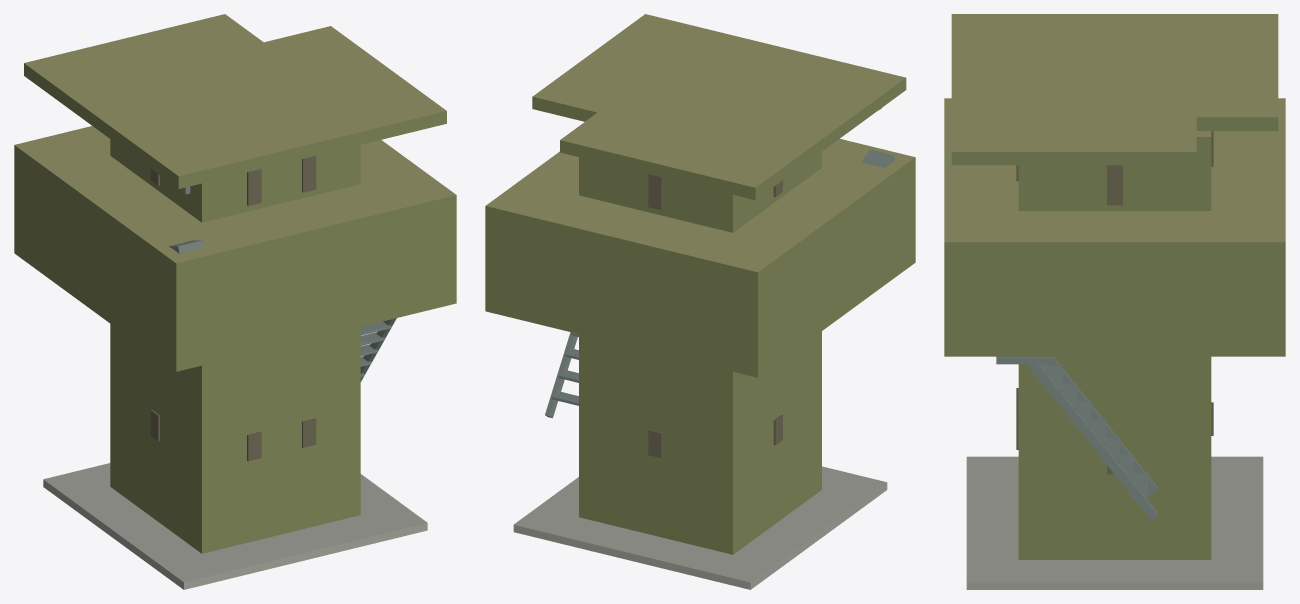
File: SM_TorretaVigia_v3_LOD0.fbx
3 renders of one model, left to right at view 1: azimuth 30°, elevation 25°; view 2: azimuth 150°, elevation 25°; view 3: azimuth 270°, elevation 25°, orthographic. The views are drawn at different scales.
Parts seen in each view (by area): view 1: SM_torreta_vigia_v3_LOD0; view 2: SM_torreta_vigia_v3_LOD0; view 3: SM_torreta_vigia_v3_LOD0.
Part boxes in pixels (left/top/right/bottom): SM_torreta_vigia_v3_LOD0: left=14, top=14, right=456, bottom=589; SM_torreta_vigia_v3_LOD0: left=485, top=14, right=915, bottom=589; SM_torreta_vigia_v3_LOD0: left=944, top=14, right=1285, bottom=589.
Bounding box in the file's own units: 4.65 × 6.61 × 4.6.
